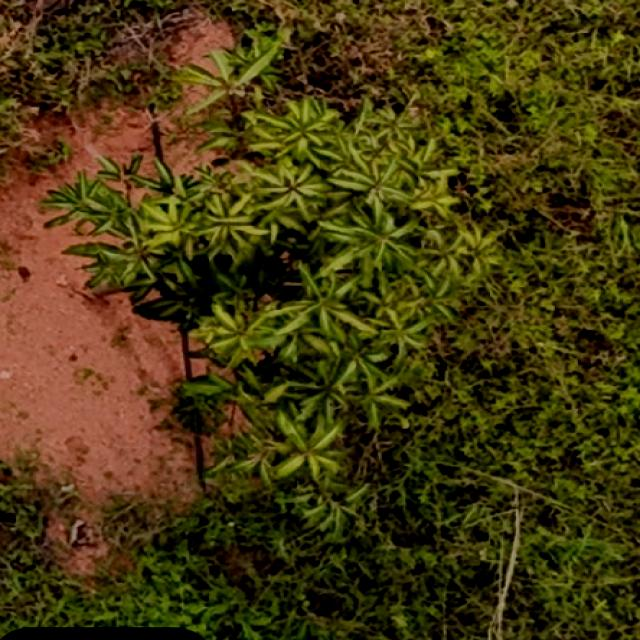mangoTree: (33, 14, 501, 545)
